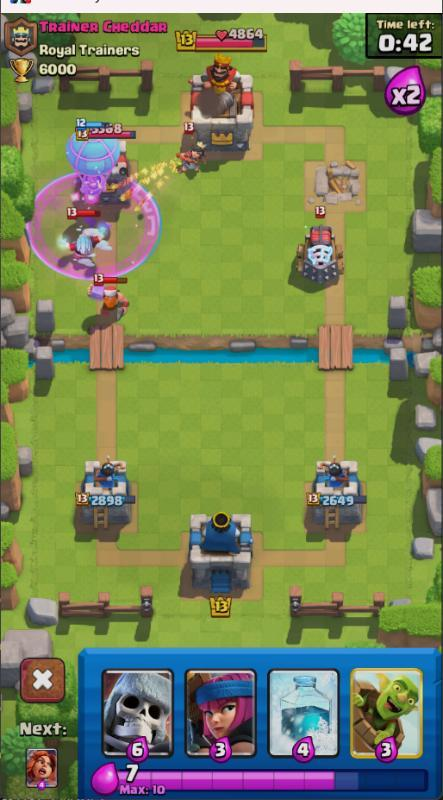enemy_ice_wizard: (56, 206, 109, 265)
enemy_lumberjack: (81, 275, 135, 322)
enemy_princess: (174, 139, 210, 180)
enemy_sparky: (290, 223, 345, 284)
player_ballon: (62, 119, 123, 202)
rage: (22, 167, 170, 280)
